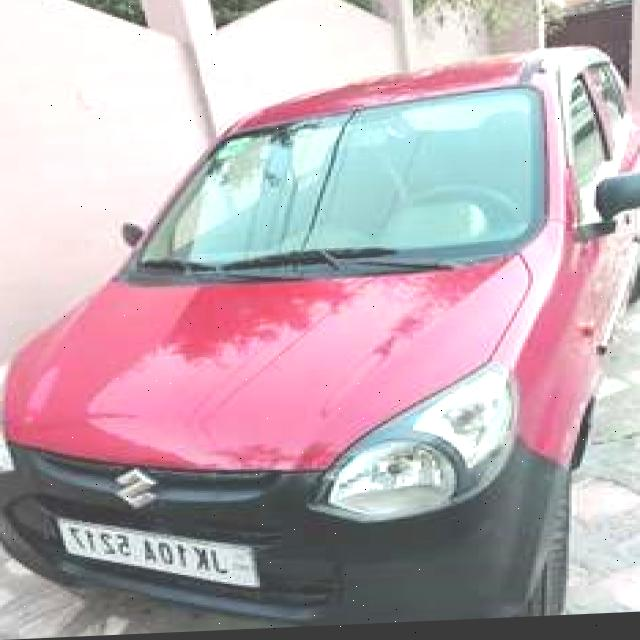plate: (57, 508, 266, 599)
